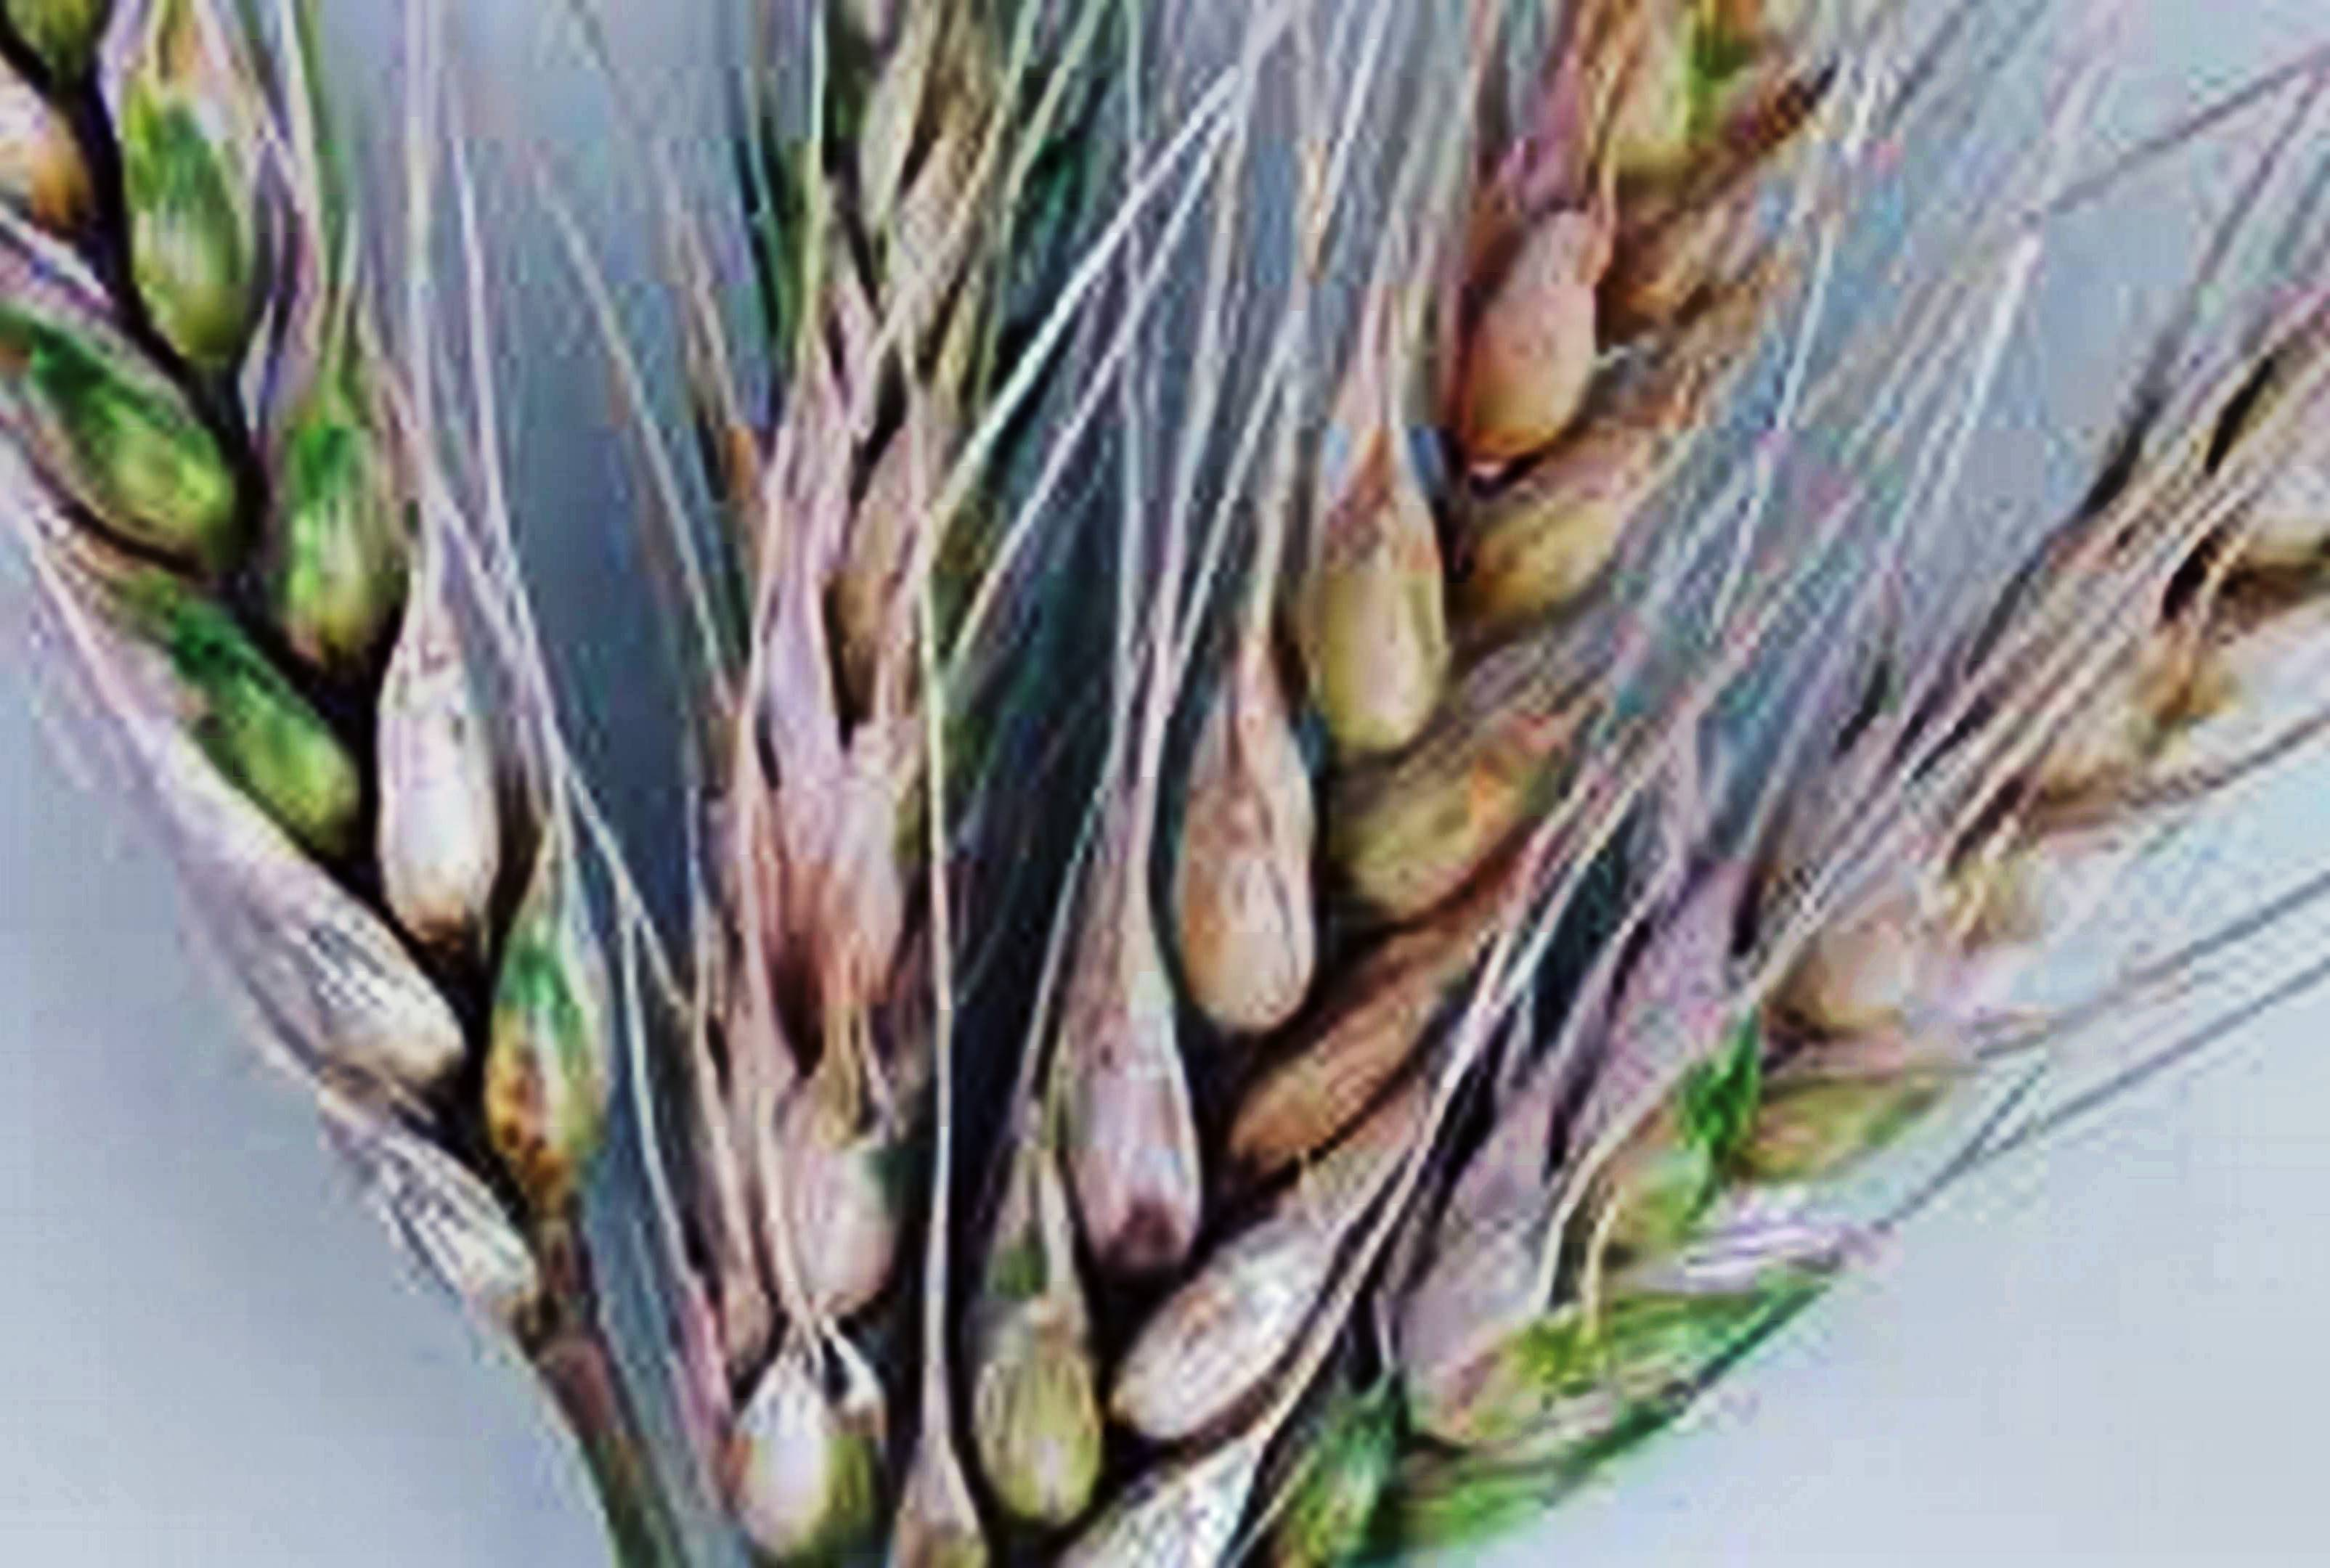Wheat scab: (527, 131, 1782, 1349)
